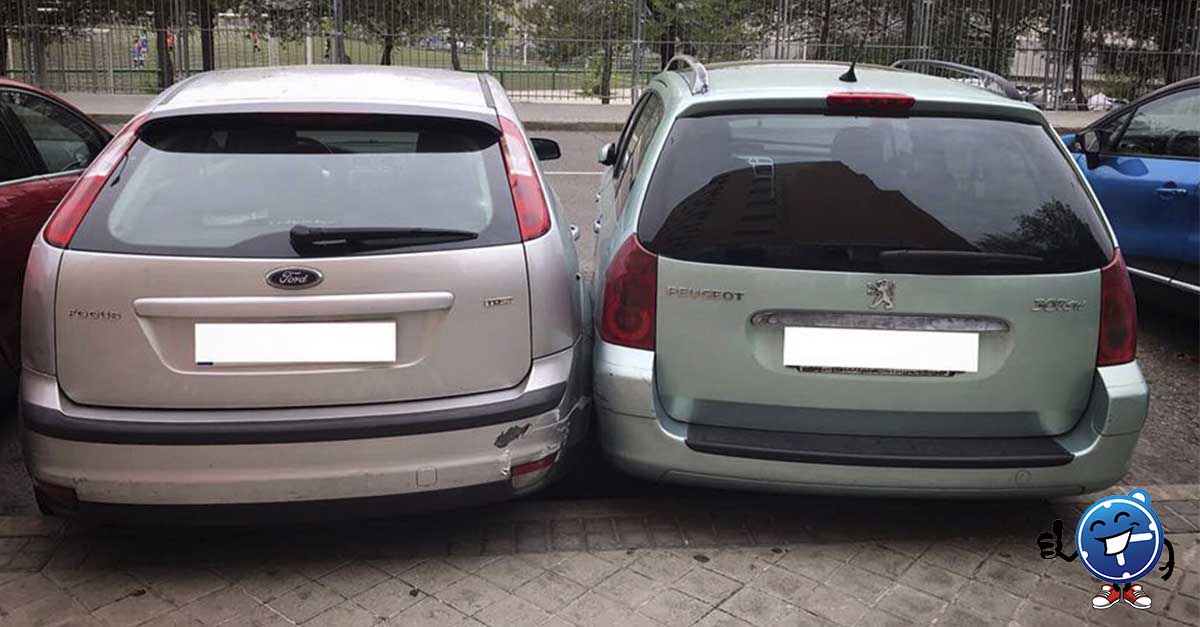car: (594, 48, 1151, 515), (25, 62, 571, 528), (1060, 50, 1197, 327), (2, 69, 117, 307)
